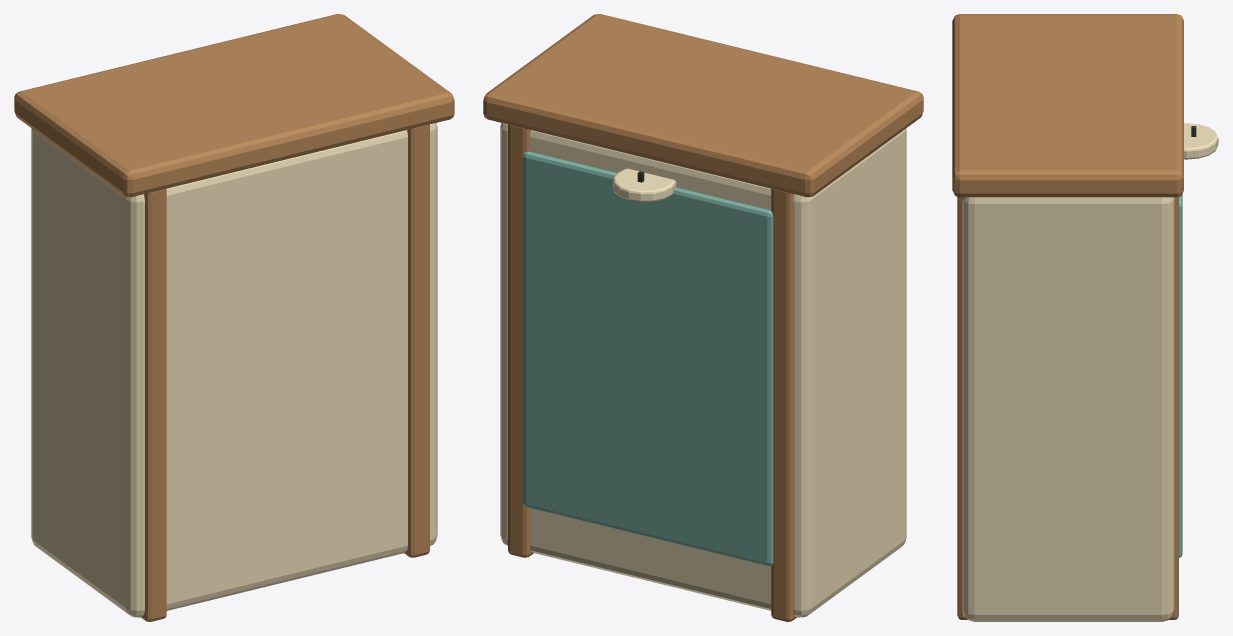
The model's file is SM_OxidationRack.fbx.
3 renders of one model, left to right at view 1: azimuth 30°, elevation 25°; view 2: azimuth 150°, elevation 25°; view 3: azimuth 270°, elevation 25°, orthographic.
Parts seen in each view (by area): view 1: OxidationMesh; view 2: OxidationMesh; view 3: OxidationMesh.
Part boxes in pixels (<box>): OxidationMesh: <box>14,14,454,621</box>; OxidationMesh: <box>483,14,923,621</box>; OxidationMesh: <box>952,14,1218,621</box>.
Bounding box in the file's own units: 1.56 × 2.06 × 1.08.
